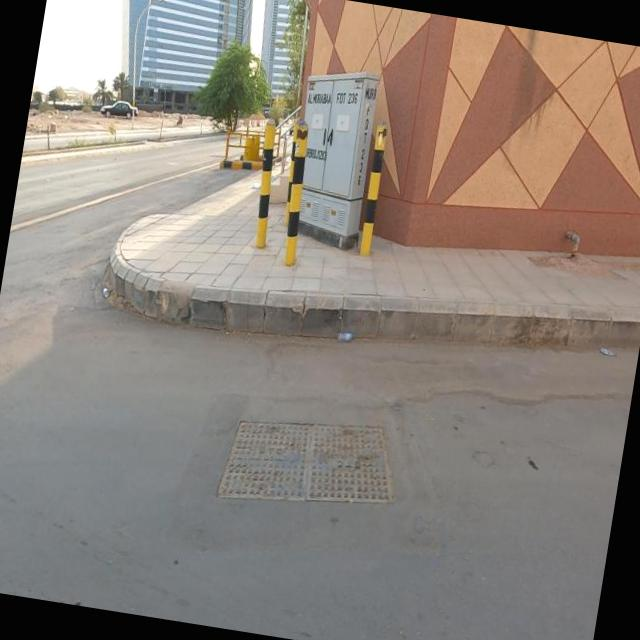debris: (67, 248, 136, 342), (576, 305, 640, 396), (312, 298, 382, 376)
